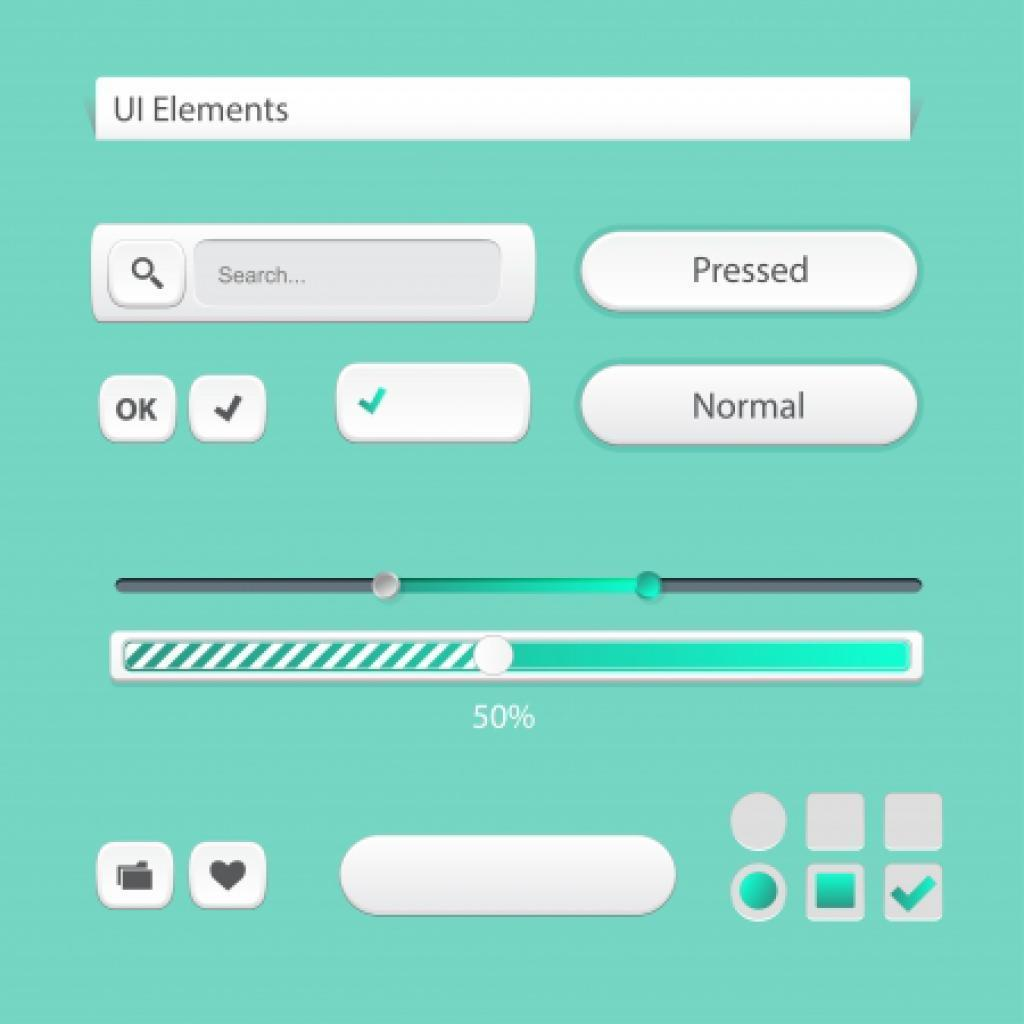button: (582, 227, 925, 314), (345, 837, 676, 913), (584, 367, 911, 442), (102, 369, 176, 449)
checkbox: (181, 369, 281, 457), (804, 861, 868, 923), (805, 792, 867, 852), (883, 864, 942, 924), (884, 793, 943, 853)
icon: (121, 257, 174, 299), (113, 855, 158, 901), (206, 857, 253, 894)
input: (95, 73, 918, 145), (199, 243, 501, 302)
radio: (732, 790, 789, 858), (730, 864, 786, 922)
slider: (104, 629, 939, 694), (114, 552, 937, 609)
